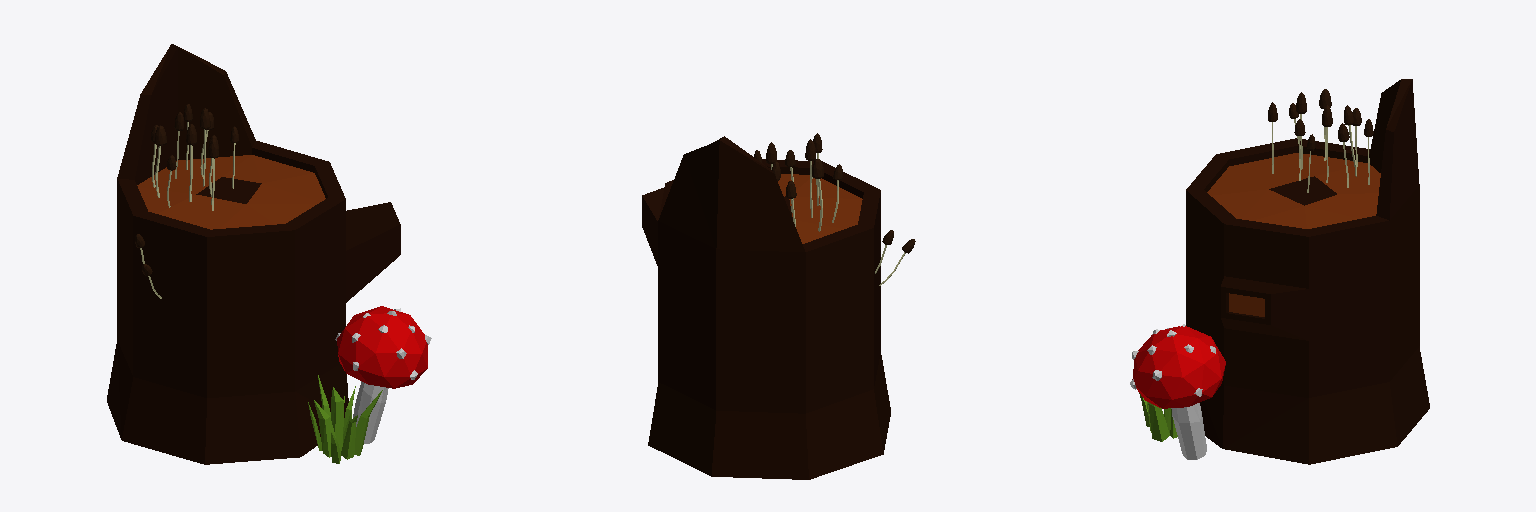
Rendered from stump2.obj.
3 views of the same model, side by side, from view 1: azimuth 30°, elevation 25°; view 2: azimuth 150°, elevation 25°; view 3: azimuth 270°, elevation 25° (orthographic).
Visible parts, largest first — view 1: Stump5_Cylinder.040; view 2: Stump5_Cylinder.040; view 3: Stump5_Cylinder.040.
Boxes of the visible parts, x1,y1,x2,y2 form: Stump5_Cylinder.040: [107, 44, 431, 464]; Stump5_Cylinder.040: [642, 133, 915, 479]; Stump5_Cylinder.040: [1130, 79, 1429, 464].
Size of the model in its own units: 1.6 by 1.97 by 1.59.